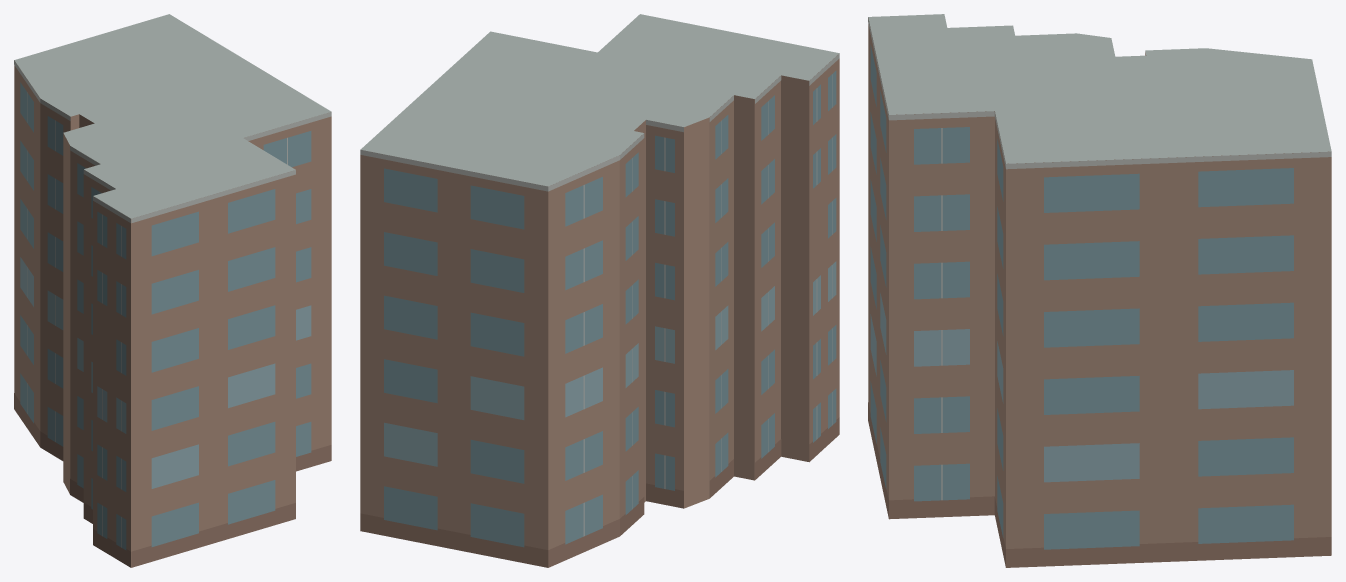
Rendered from survey-upis-32755163.glb.
3 renders of one model, left to right at view 1: azimuth 30°, elevation 25°; view 2: azimuth 150°, elevation 25°; view 3: azimuth 270°, elevation 25°, orthographic. The views are drawn at different scales.
Visible parts, largest first — view 1: survey-upis-32755163.tmp; view 2: survey-upis-32755163.tmp; view 3: survey-upis-32755163.tmp.
Boxes of the visible parts, bbox=[...] form: survey-upis-32755163.tmp: bbox=[14, 14, 331, 567]; survey-upis-32755163.tmp: bbox=[360, 14, 839, 567]; survey-upis-32755163.tmp: bbox=[868, 14, 1331, 567].
Size of the model in its own units: 14.56 by 18.3 by 19.03.
